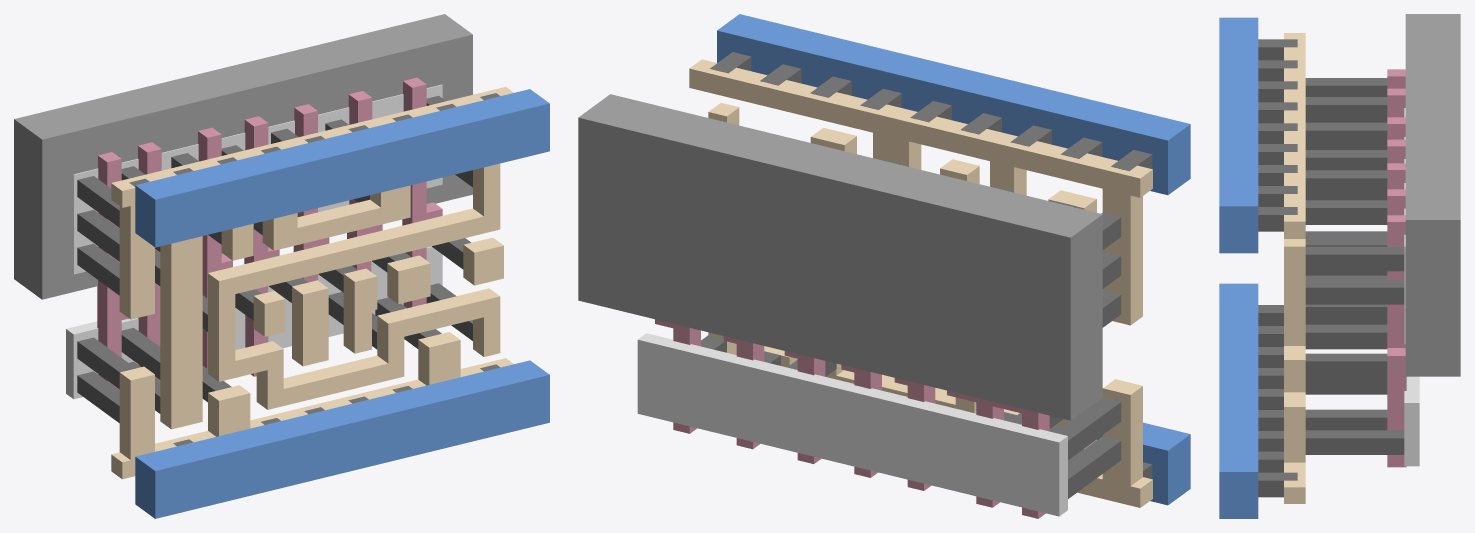
Rendered from sky130_fd_sc_hd__a311o_2.gds.gltf.
3 views of the same model, side by side, from view 1: azimuth 30°, elevation 25°; view 2: azimuth 150°, elevation 25°; view 3: azimuth 270°, elevation 25° (orthographic). The views are drawn at different scales.
Parts seen in each view (by area): view 1: sky130_fd_sc_hd__a311o_2_li1, sky130_fd_sc_hd__a311o_2_met1, sky130_fd_sc_hd__a311o_2_nwell, sky130_fd_sc_hd__a311o_2_licon, sky130_fd_sc_hd__a311o_2_poly, sky130_fd_sc_hd__a311o_2_diff, sky130_fd_sc_hd__a311o_2_mcon; view 2: sky130_fd_sc_hd__a311o_2_nwell, sky130_fd_sc_hd__a311o_2_diff, sky130_fd_sc_hd__a311o_2_li1, sky130_fd_sc_hd__a311o_2_met1, sky130_fd_sc_hd__a311o_2_licon, sky130_fd_sc_hd__a311o_2_mcon, sky130_fd_sc_hd__a311o_2_poly; view 3: sky130_fd_sc_hd__a311o_2_licon, sky130_fd_sc_hd__a311o_2_nwell, sky130_fd_sc_hd__a311o_2_met1, sky130_fd_sc_hd__a311o_2_mcon, sky130_fd_sc_hd__a311o_2_li1, sky130_fd_sc_hd__a311o_2_poly, sky130_fd_sc_hd__a311o_2_diff.
Part boxes in pixels (x1,y1,x2,y2): sky130_fd_sc_hd__a311o_2_li1: (111, 86, 513, 479); sky130_fd_sc_hd__a311o_2_met1: (135, 89, 549, 518); sky130_fd_sc_hd__a311o_2_nwell: (14, 14, 472, 299); sky130_fd_sc_hd__a311o_2_licon: (77, 95, 472, 422); sky130_fd_sc_hd__a311o_2_poly: (97, 77, 442, 389); sky130_fd_sc_hd__a311o_2_diff: (66, 84, 442, 399); sky130_fd_sc_hd__a311o_2_mcon: (129, 93, 500, 446); sky130_fd_sc_hd__a311o_2_nwell: (578, 94, 1102, 420); sky130_fd_sc_hd__a311o_2_diff: (637, 333, 1067, 516); sky130_fd_sc_hd__a311o_2_li1: (689, 59, 1152, 507); sky130_fd_sc_hd__a311o_2_met1: (717, 14, 1190, 505); sky130_fd_sc_hd__a311o_2_licon: (701, 158, 1121, 498); sky130_fd_sc_hd__a311o_2_mcon: (710, 52, 1152, 478); sky130_fd_sc_hd__a311o_2_poly: (655, 319, 1049, 518); sky130_fd_sc_hd__a311o_2_licon: (1305, 78, 1404, 454); sky130_fd_sc_hd__a311o_2_nwell: (1405, 14, 1460, 376); sky130_fd_sc_hd__a311o_2_met1: (1219, 17, 1258, 518); sky130_fd_sc_hd__a311o_2_mcon: (1258, 39, 1297, 497); sky130_fd_sc_hd__a311o_2_li1: (1284, 33, 1305, 503); sky130_fd_sc_hd__a311o_2_poly: (1387, 69, 1406, 467); sky130_fd_sc_hd__a311o_2_diff: (1404, 108, 1419, 466).
Bounding box in the file's own units: 4.52 × 3.2 × 2.24.
